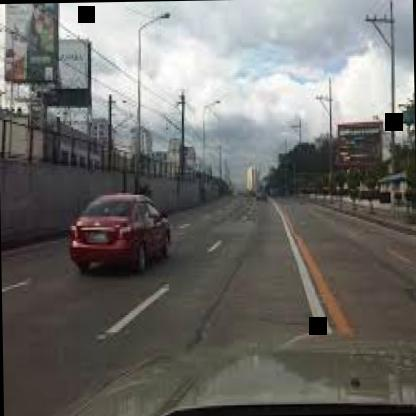car: (68, 183, 178, 273)
